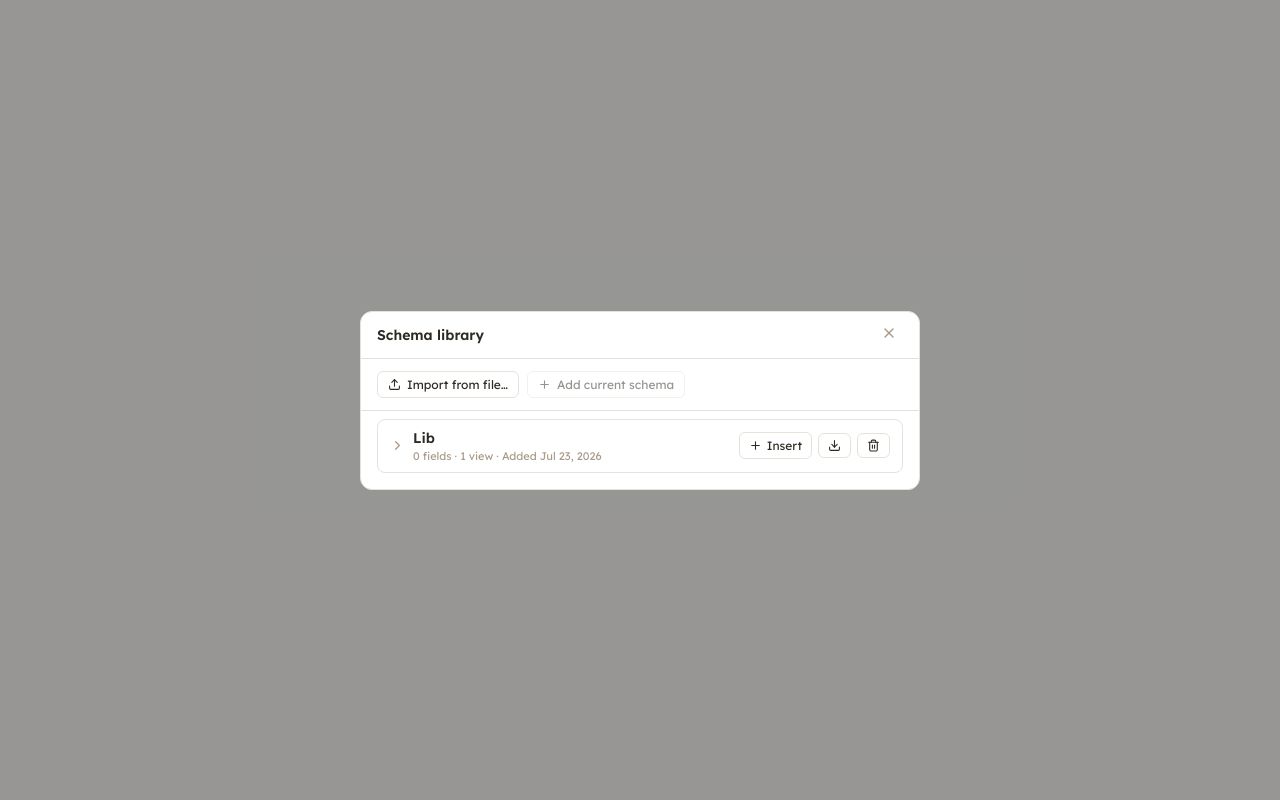
Test case: SchemaLibraryModal › Update from current schema is disabled when there is no active schema
Click the button with aria-label "toggle details": (559, 446) [390,428,729,462]
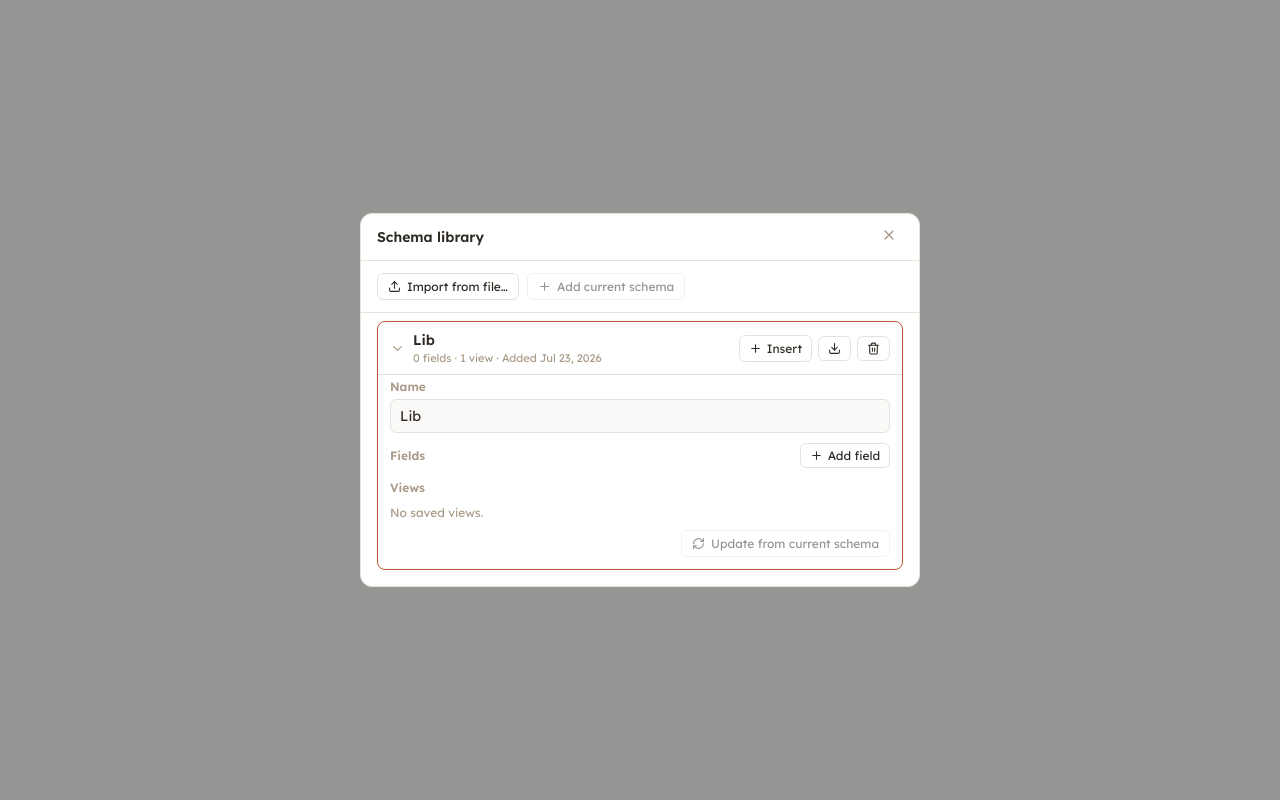
Check: the button "Update from current schema" is disabled, box [681,530,890,557]
